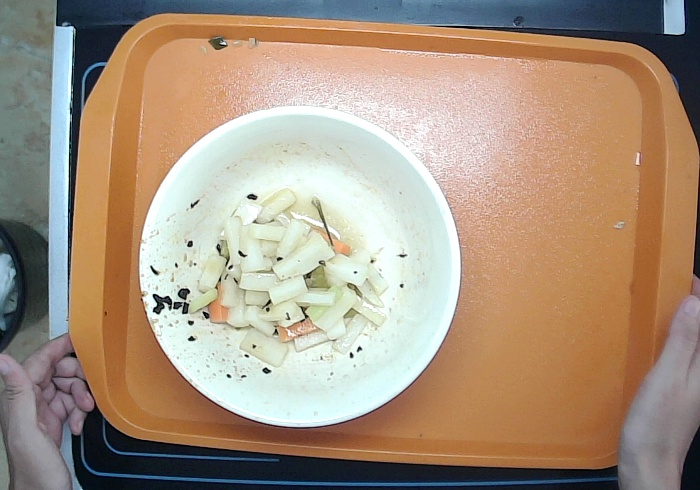ZNLD-Da_Tang_Wan: (136, 102, 462, 429)
